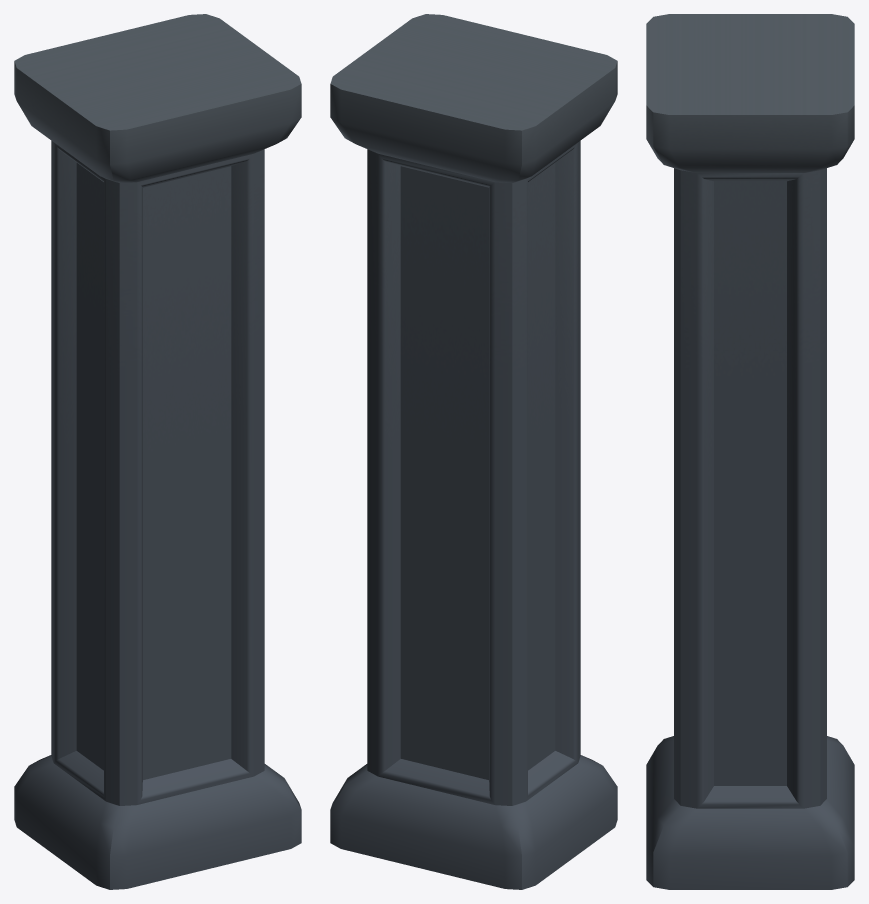
File: Pillar_Tall.fbx
3 renders of one model, left to right at view 1: azimuth 30°, elevation 25°; view 2: azimuth 150°, elevation 25°; view 3: azimuth 270°, elevation 25°, orthographic. The views are drawn at different scales.
Parts seen in each view (by area): view 1: Pillar; view 2: Pillar; view 3: Pillar.
Boxes of the visible parts, <box> form: Pillar: <box>14,14,301,889</box>; Pillar: <box>330,14,617,889</box>; Pillar: <box>646,14,854,889</box>.
Size of the model in its own units: 1.12 by 4 by 0.9734.
